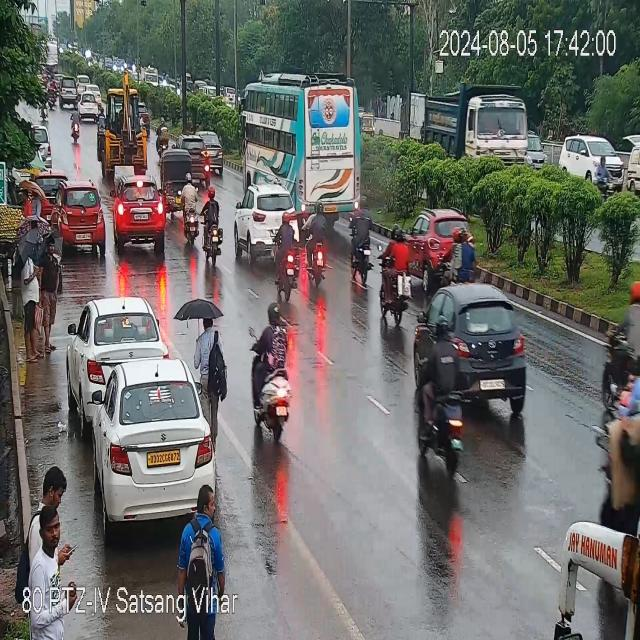2-wheelers: (416, 309, 466, 454), (246, 295, 292, 446), (596, 309, 640, 423), (348, 204, 408, 281), (379, 227, 419, 326), (181, 175, 222, 248), (441, 234, 478, 288), (307, 204, 328, 292), (279, 207, 298, 290), (588, 156, 616, 198), (166, 179, 181, 221), (70, 107, 84, 145), (157, 114, 170, 149)
auto: (115, 181, 170, 253), (163, 149, 196, 201)
bus: (238, 67, 367, 218), (551, 465, 638, 640)
car: (90, 359, 214, 522), (404, 280, 528, 411), (70, 296, 166, 403), (236, 183, 298, 252), (563, 124, 618, 186), (56, 186, 105, 249), (413, 203, 451, 279), (29, 169, 70, 223), (188, 132, 226, 174), (74, 92, 104, 120)
pedestrian: (15, 223, 60, 348), (182, 482, 228, 588), (31, 464, 70, 562), (195, 319, 225, 423)
truck: (419, 83, 532, 162), (98, 84, 150, 178)
